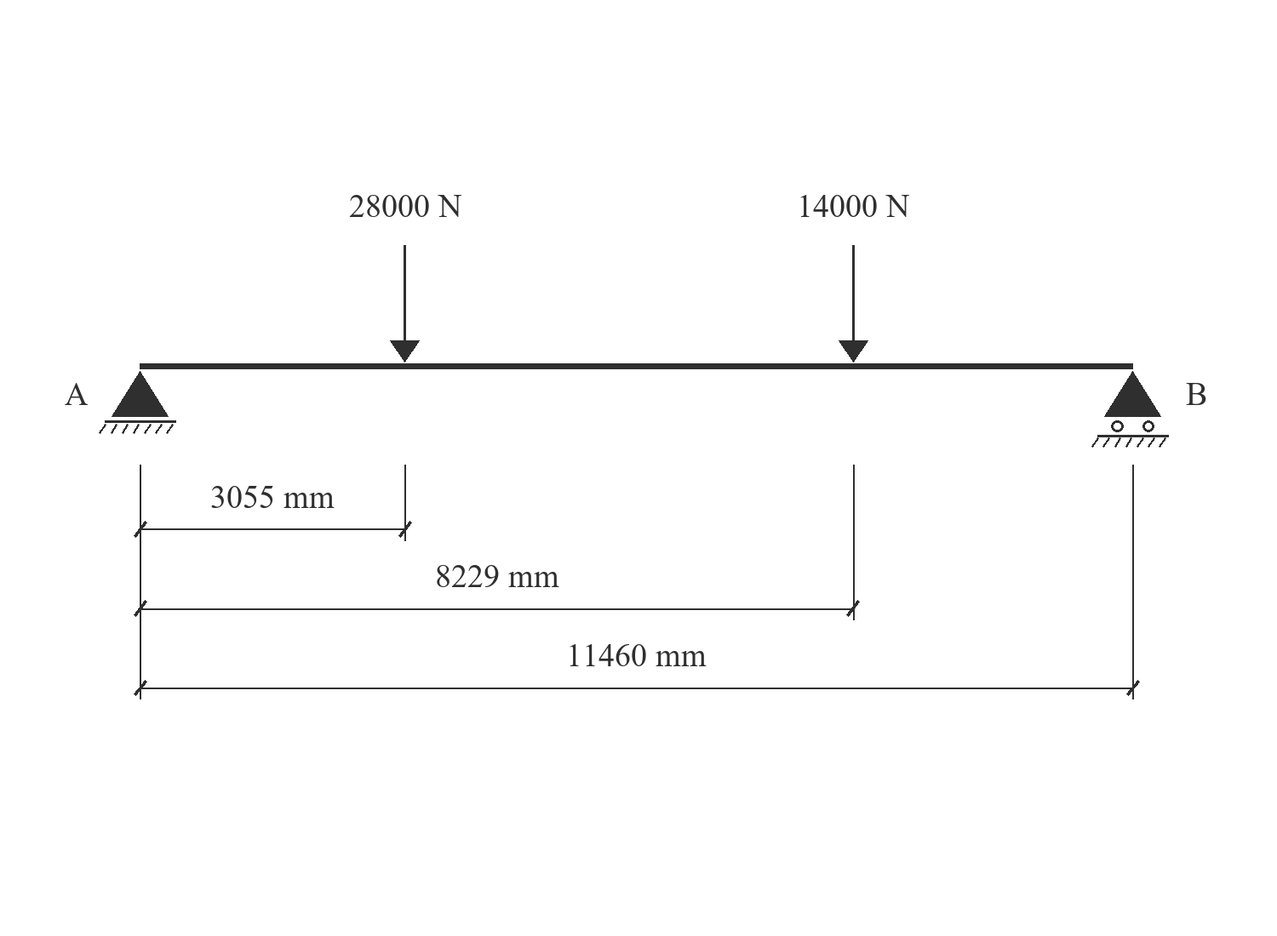pin_support: (99, 371, 176, 434)
point_load: (390, 245, 420, 362), (839, 245, 868, 362)
roller_support: (1091, 371, 1169, 448)
